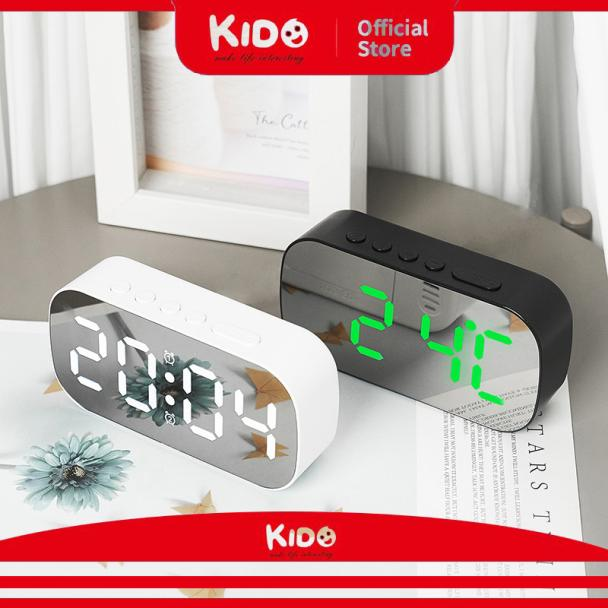Jam: (44, 281, 315, 505), (275, 237, 559, 442)
